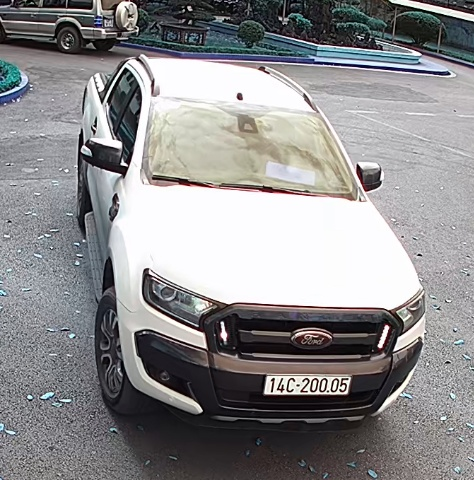vehicle plate: (256, 369, 359, 397)
